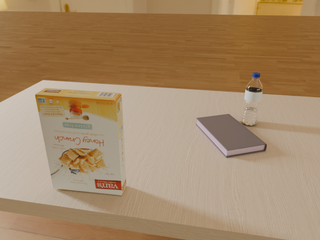book: (196, 114, 267, 158)
bottle: (242, 73, 263, 126)
box: (35, 88, 126, 195)
